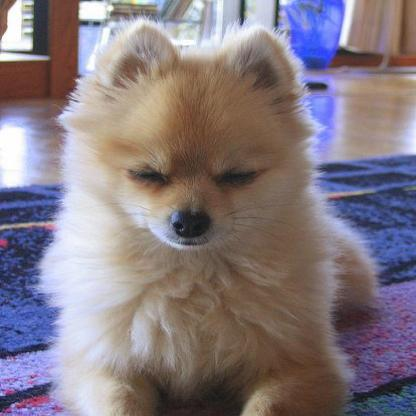Pomeranian: (32, 12, 378, 412)
